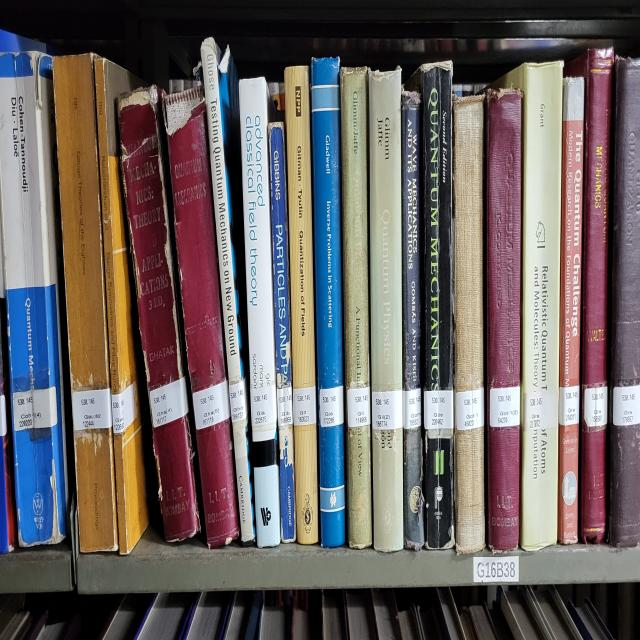Book: (118, 87, 200, 541), (162, 87, 239, 547), (0, 51, 68, 547), (54, 54, 119, 552), (501, 62, 564, 549), (201, 38, 255, 544), (95, 60, 149, 555), (568, 49, 614, 544), (409, 62, 454, 549), (239, 78, 280, 549), (369, 68, 404, 552), (485, 89, 521, 552), (311, 60, 345, 547), (285, 65, 319, 544), (340, 68, 372, 549), (609, 57, 640, 547), (452, 95, 485, 552), (558, 76, 585, 544), (269, 122, 296, 541), (401, 89, 425, 549)
Label: (12, 387, 58, 433), (149, 376, 189, 427), (192, 381, 230, 430), (72, 387, 112, 430), (522, 390, 559, 430), (371, 390, 402, 430), (111, 384, 136, 433), (456, 387, 484, 430), (424, 390, 454, 430), (490, 387, 520, 427), (250, 384, 276, 430), (612, 384, 640, 425), (319, 384, 344, 427), (584, 384, 608, 427), (292, 387, 316, 425), (348, 387, 370, 427), (559, 384, 580, 425), (229, 379, 248, 422), (402, 387, 421, 430), (276, 387, 292, 427)
